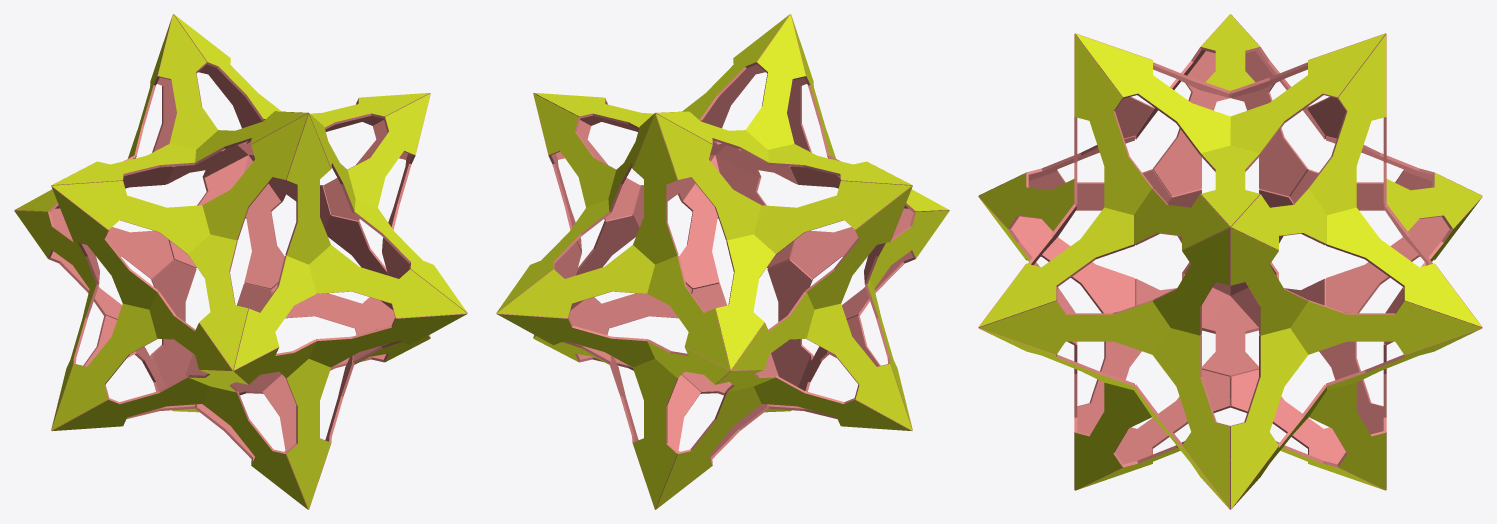
File: MedialRhombicTriacontahedronS1.glb
3 renders of one model, left to right at view 1: azimuth 30°, elevation 25°; view 2: azimuth 150°, elevation 25°; view 3: azimuth 270°, elevation 25°, orthographic. The views are drawn at different scales.
Parts seen in each view (by area): view 1: root; view 2: root; view 3: root.
Boxes of the visible parts, x1,y1,x2,y2 form: root: (14,14,467,509); root: (496,14,949,509); root: (978,14,1482,509).
Size of the model in its own units: 8.5 by 8.5 by 8.5.
